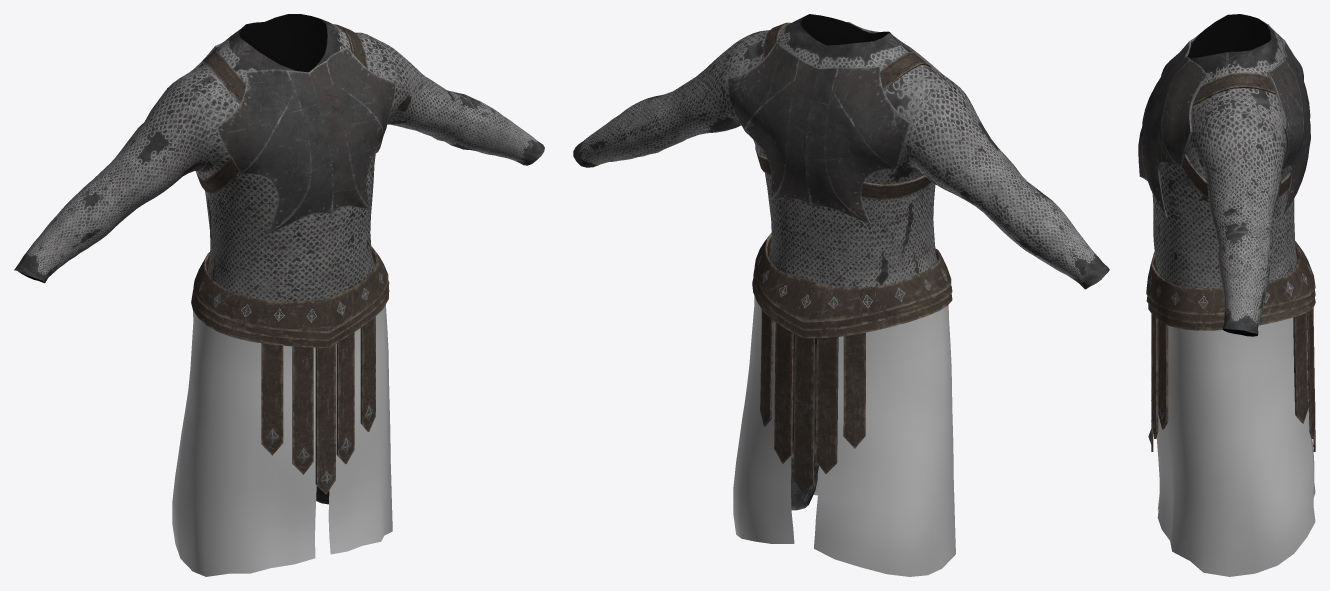
The model's file is sk_uruk_mordor_chainmail_medium_c2.fbx.
The picture shows the model from 3 angles, left to right: view 1: azimuth 30°, elevation 25°; view 2: azimuth 150°, elevation 25°; view 3: azimuth 270°, elevation 25°; orthographic projection. The views are drawn at different scales.
Visible parts, largest first — view 1: sk_uruk_mordor_chainmail_medium_c2.0, sk_uruk_mordor_chainmail_medium_c2.2, sk_uruk_mordor_chainmail_medium_c2.1, sk_uruk_mordor_chainmail_medium_c2.3; view 2: sk_uruk_mordor_chainmail_medium_c2.0, sk_uruk_mordor_chainmail_medium_c2.2, sk_uruk_mordor_chainmail_medium_c2.1, sk_uruk_mordor_chainmail_medium_c2.3; view 3: sk_uruk_mordor_chainmail_medium_c2.2, sk_uruk_mordor_chainmail_medium_c2.0, sk_uruk_mordor_chainmail_medium_c2.1, sk_uruk_mordor_chainmail_medium_c2.3.
Part boxes in pixels (x1,y1,x2,y2): sk_uruk_mordor_chainmail_medium_c2.0: (14, 14, 544, 504); sk_uruk_mordor_chainmail_medium_c2.2: (172, 305, 392, 576); sk_uruk_mordor_chainmail_medium_c2.1: (191, 24, 389, 494); sk_uruk_mordor_chainmail_medium_c2.3: (167, 42, 395, 234); sk_uruk_mordor_chainmail_medium_c2.0: (573, 14, 1109, 510); sk_uruk_mordor_chainmail_medium_c2.2: (733, 296, 955, 576); sk_uruk_mordor_chainmail_medium_c2.1: (752, 22, 952, 493); sk_uruk_mordor_chainmail_medium_c2.3: (727, 22, 942, 223); sk_uruk_mordor_chainmail_medium_c2.2: (1156, 317, 1315, 576); sk_uruk_mordor_chainmail_medium_c2.0: (1152, 14, 1297, 336); sk_uruk_mordor_chainmail_medium_c2.1: (1146, 72, 1315, 451); sk_uruk_mordor_chainmail_medium_c2.3: (1138, 24, 1310, 217).
Bounding box in the file's own units: 1.37 × 0.416 × 1.29.
